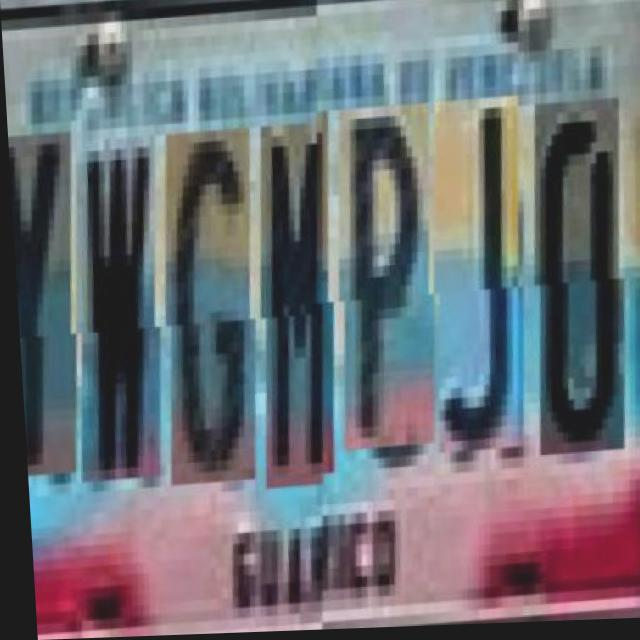0: (525, 119, 640, 476)
g: (155, 131, 273, 488)
j: (424, 114, 541, 471)
m: (250, 127, 352, 494)
p: (330, 121, 452, 466)
w: (67, 139, 177, 483)
y: (6, 133, 92, 478)
